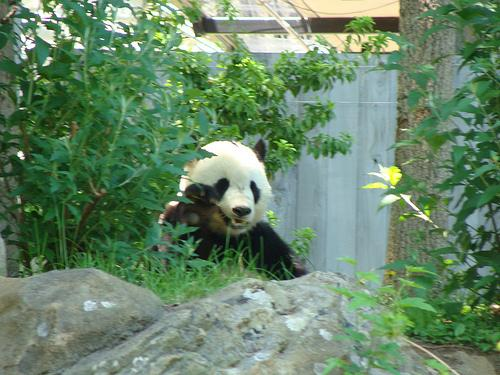panda: (160, 140, 304, 275)
